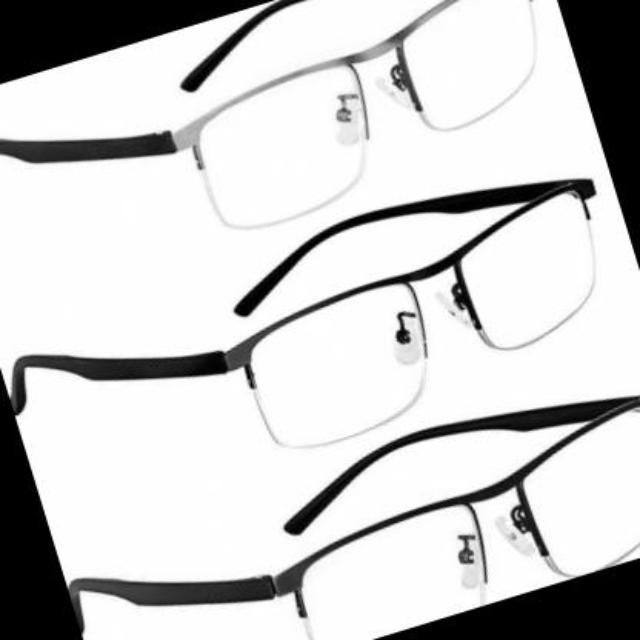glasses: (44, 163, 604, 470), (120, 396, 640, 640), (27, 0, 538, 240)
